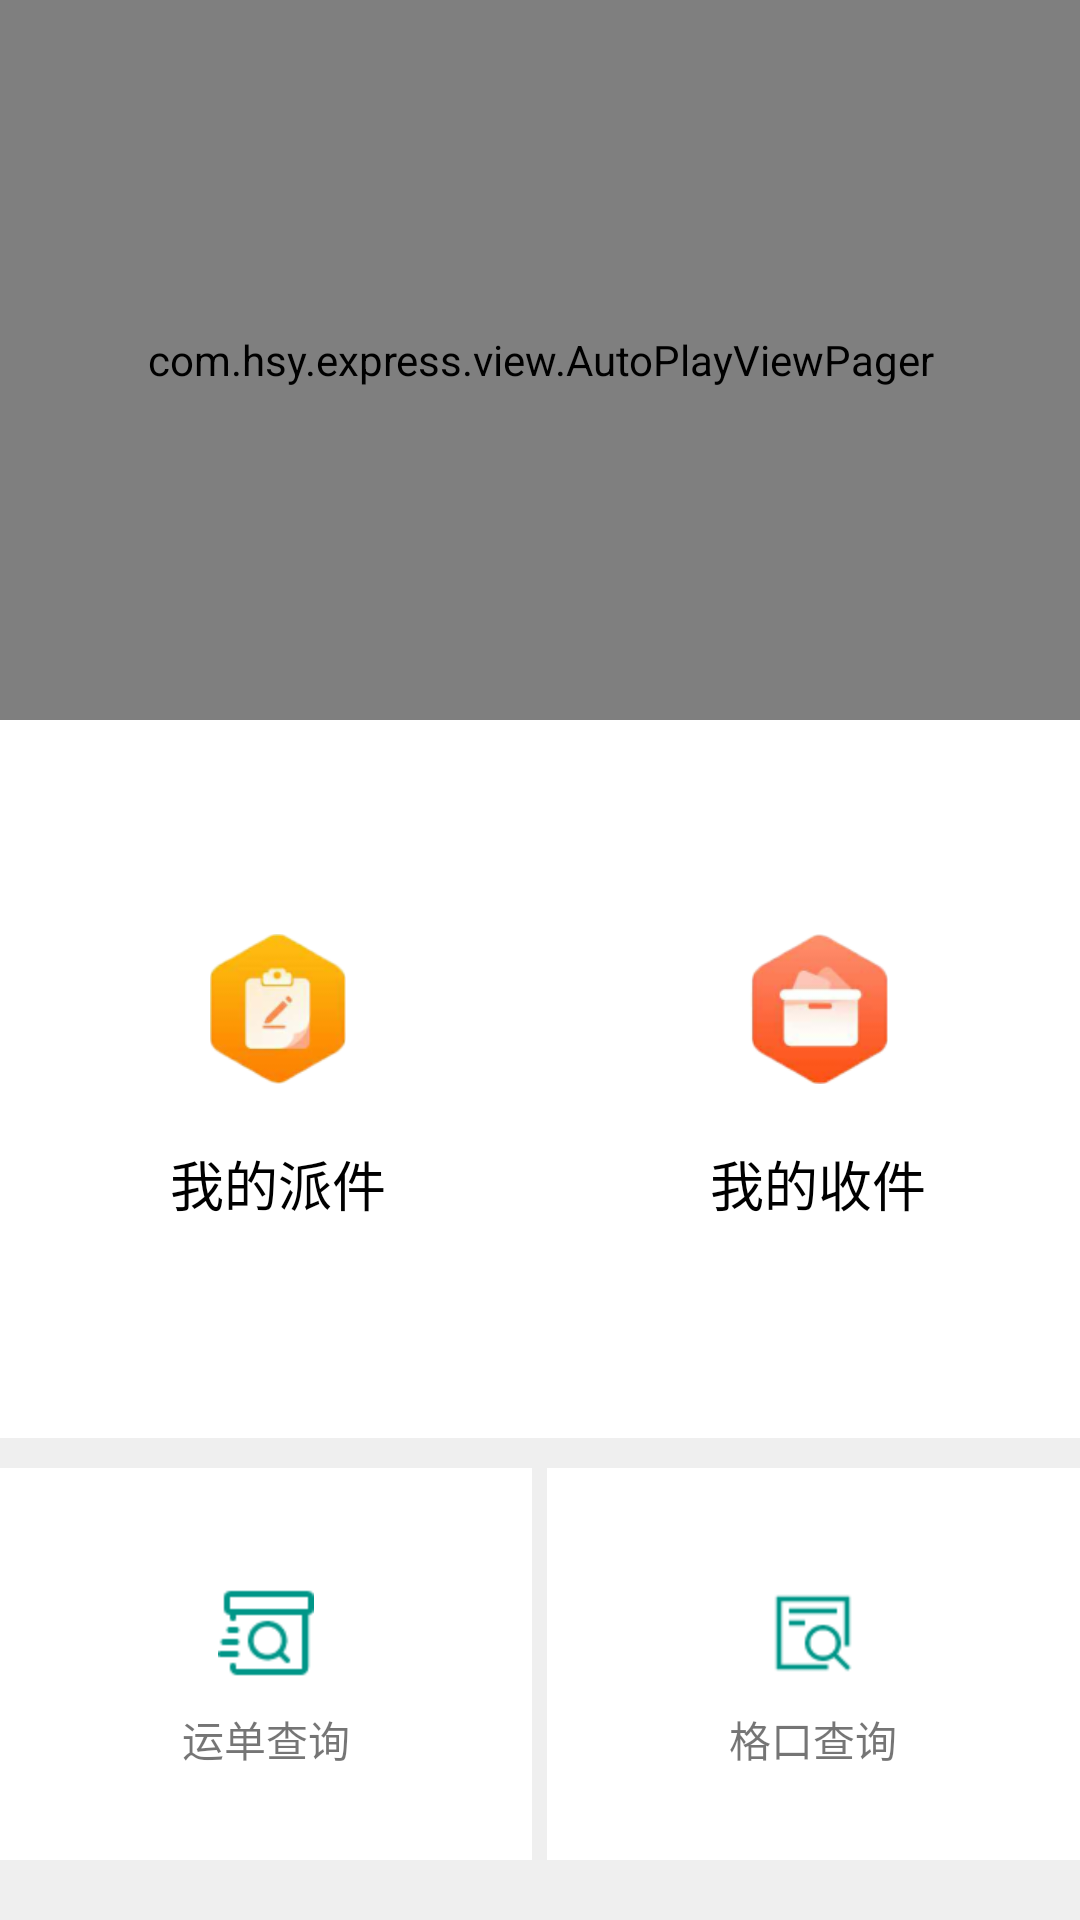

Icon click points for this 1080px x 1920px phone screenshot, format (x,y):
query gk: (813,1633)
